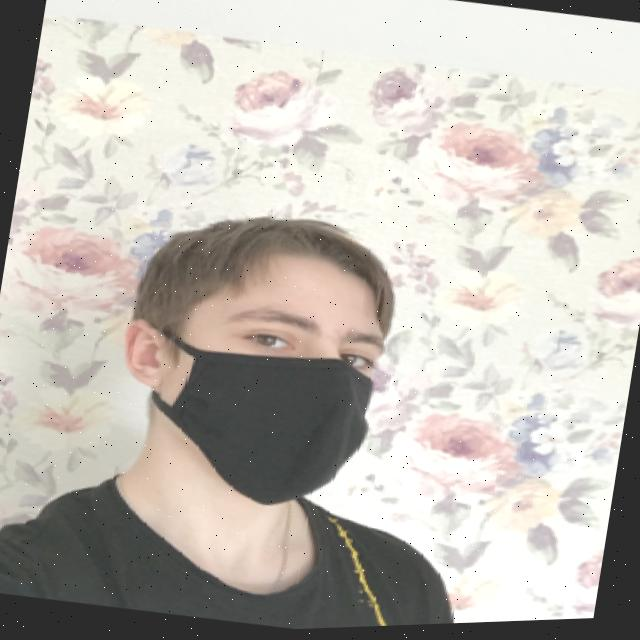Mask: (100, 313, 383, 516)
